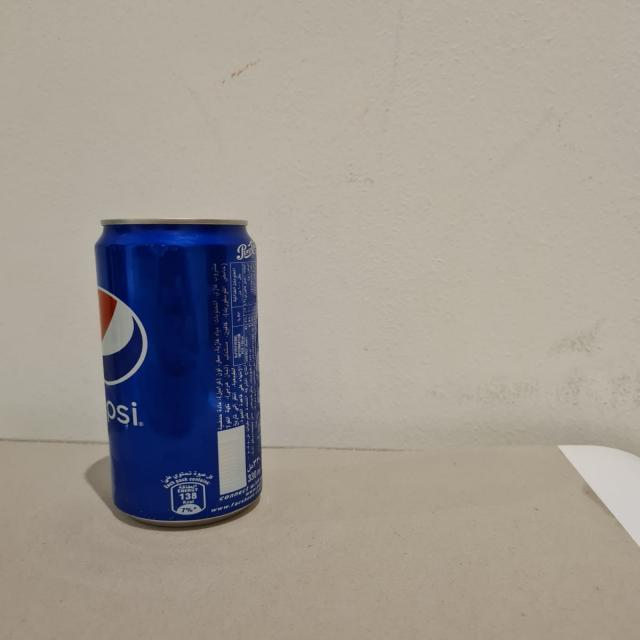can: (92, 214, 270, 530)
